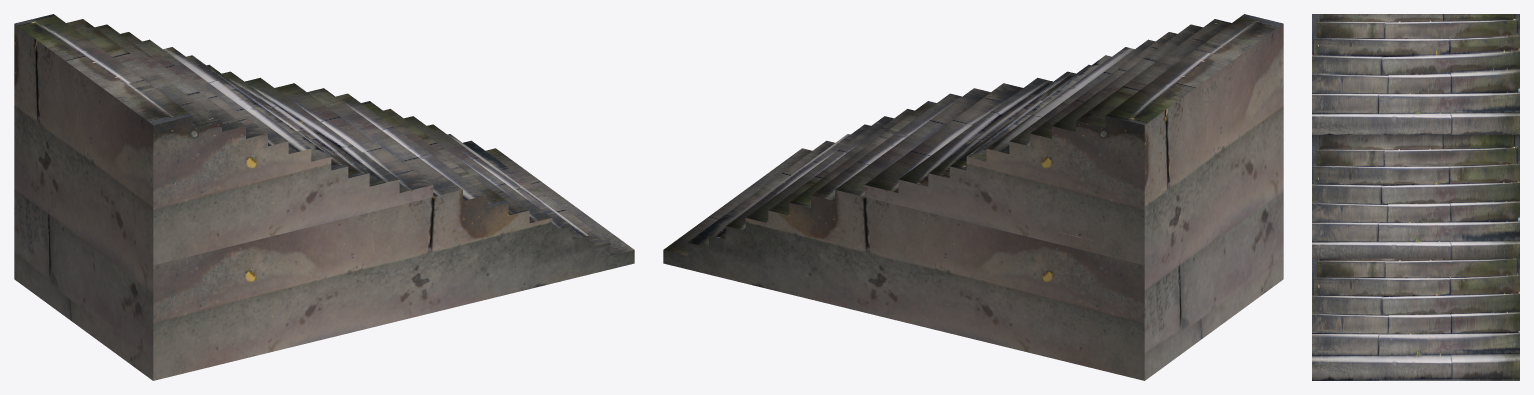
File: steps.obj
3 views of the same model, side by side, from view 1: azimuth 30°, elevation 25°; view 2: azimuth 150°, elevation 25°; view 3: azimuth 270°, elevation 25° (orthographic). The views are drawn at different scales.
Visible parts, largest first — view 1: def_surf_mat; view 2: def_surf_mat; view 3: def_surf_mat.
Part boxes in pixels (box(x1,y1,x2,y2)): def_surf_mat: box(14, 14, 634, 380); def_surf_mat: box(663, 14, 1283, 380); def_surf_mat: box(1312, 14, 1519, 380).
Size of the model in its own units: 199 by 101 by 99.51.
Materials: 1 (1 with a texture image).
